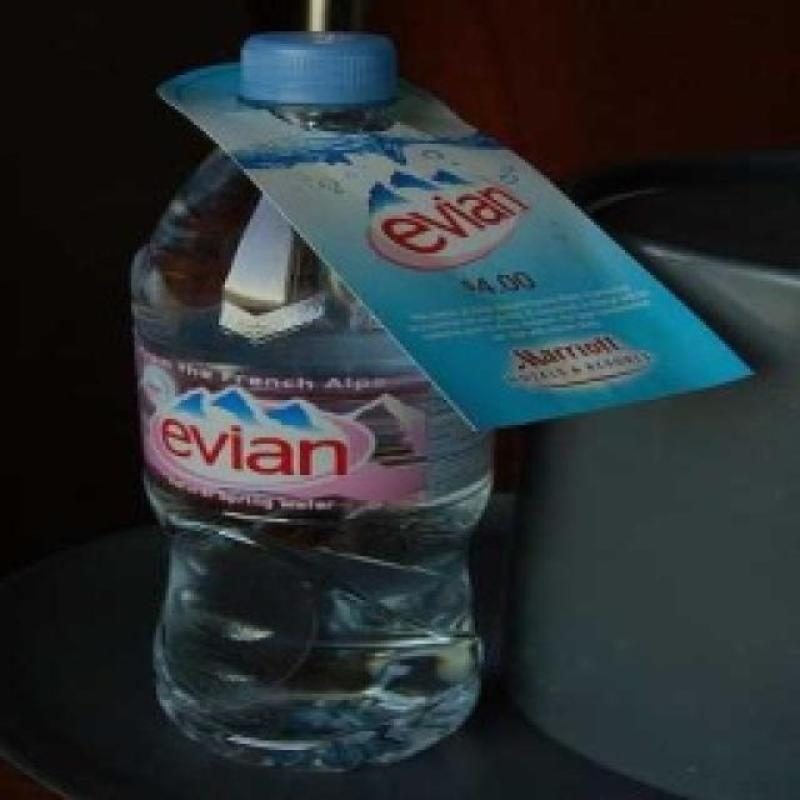botella: (120, 34, 489, 776)
